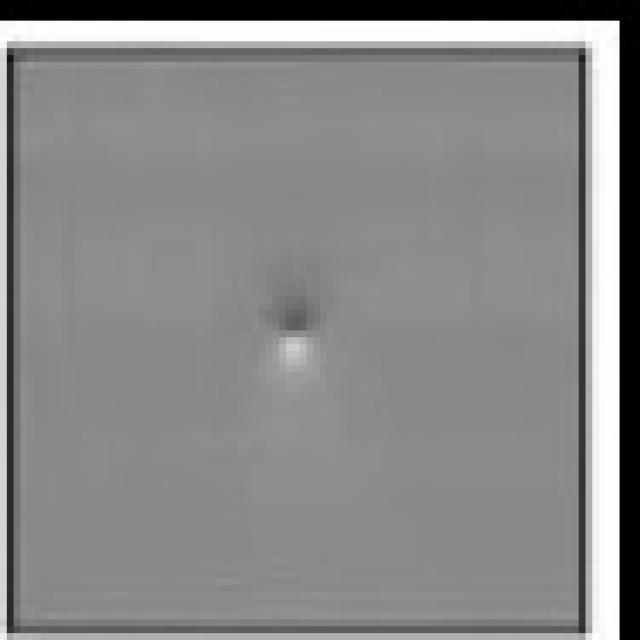Defect1: (225, 238, 372, 414)
